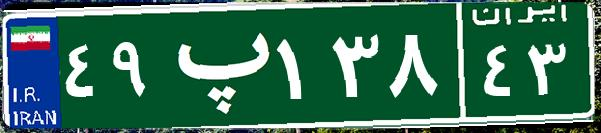1: (273, 28, 330, 110)
3: (330, 28, 385, 110), (525, 38, 570, 115)
4: (57, 26, 110, 107), (475, 38, 525, 113)
8: (385, 28, 445, 110)
9: (110, 28, 158, 105)
پ: (158, 15, 273, 115)
